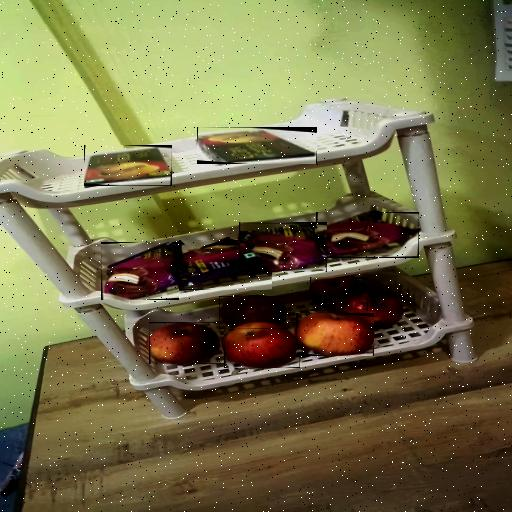Apple: (224, 322, 300, 368), (296, 313, 374, 356), (149, 322, 221, 364), (219, 296, 286, 329), (310, 277, 368, 311)
Choco Fills: (197, 127, 317, 164), (84, 145, 172, 186)
Choco Pie: (316, 212, 419, 258), (179, 240, 272, 290), (101, 242, 179, 300), (240, 224, 327, 271)
